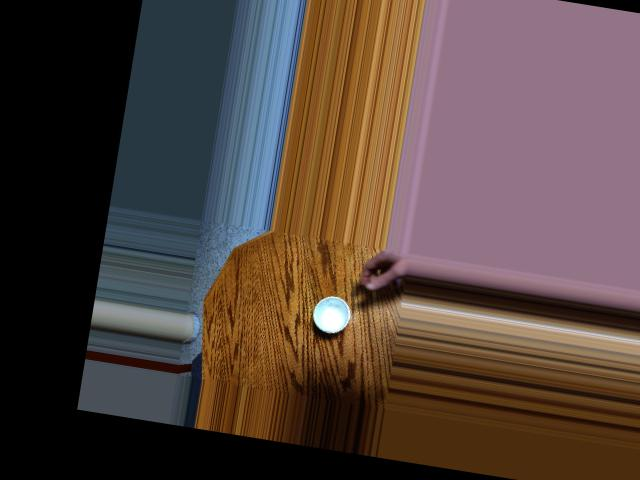cotage: (306, 288, 360, 336)
